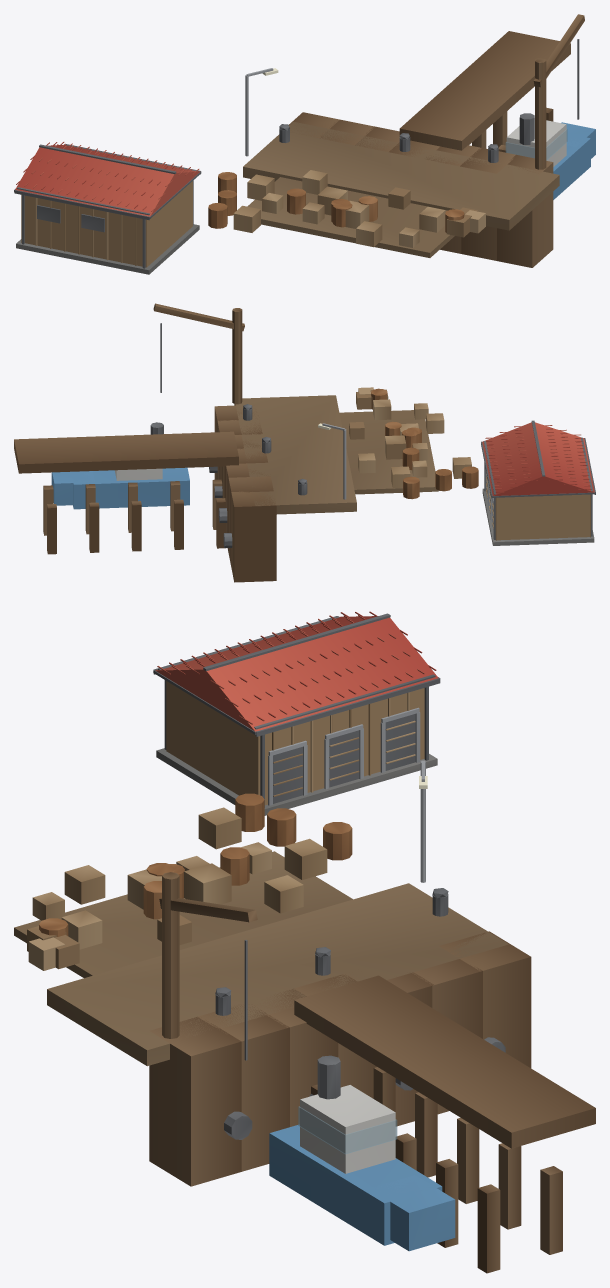
The model's file is Port_P1.fbx.
3 views of the same model, one above another, from view 1: azimuth 30°, elevation 25°; view 2: azimuth 150°, elevation 25°; view 3: azimuth 270°, elevation 25° (orthographic). The views are drawn at different scales.
Parts seen in each view (by area): view 1: Port.Apron, Port.Shed, Port.Pier0, Port.Crates, Port.QuayWall, Port.Boat, Port.Derrick, Port.Lamp0; view 2: Port.Apron, Port.Shed, Port.Pier0, Port.QuayWall, Port.Crates, Port.Boat, Port.Derrick, Port.Lamp0; view 3: Port.Shed, Port.Apron, Port.QuayWall, Port.Pier0, Port.Boat, Port.Crates, Port.Derrick.
Part boxes in pixels (x1,y1,x2,y2): Port.Apron: [243, 122, 559, 257]; Port.Shed: [14, 142, 201, 274]; Port.Pier0: [399, 31, 570, 152]; Port.Crates: [208, 170, 485, 247]; Port.QuayWall: [288, 112, 553, 267]; Port.Boat: [505, 113, 595, 199]; Port.Derrick: [533, 14, 584, 169]; Port.Lamp0: [245, 68, 278, 156]; Port.Apron: [234, 395, 438, 514]; Port.Shed: [481, 420, 595, 545]; Port.Pier0: [14, 431, 238, 554]; Port.QuayWall: [209, 405, 276, 582]; Port.Crates: [349, 387, 478, 499]; Port.Boat: [51, 422, 189, 509]; Port.Derrick: [153, 303, 244, 404]; Port.Lamp0: [318, 423, 346, 499]; Port.Shed: [153, 611, 440, 815]; Port.Apron: [14, 851, 508, 1066]; Port.QuayWall: [149, 931, 531, 1186]; Port.Pier0: [294, 975, 595, 1273]; Port.Boat: [269, 1055, 455, 1251]; Port.Crates: [27, 793, 352, 970]; Port.Derrick: [159, 872, 257, 1060].
Size of the model in its own units: 7229 by 2445 by 3965.
